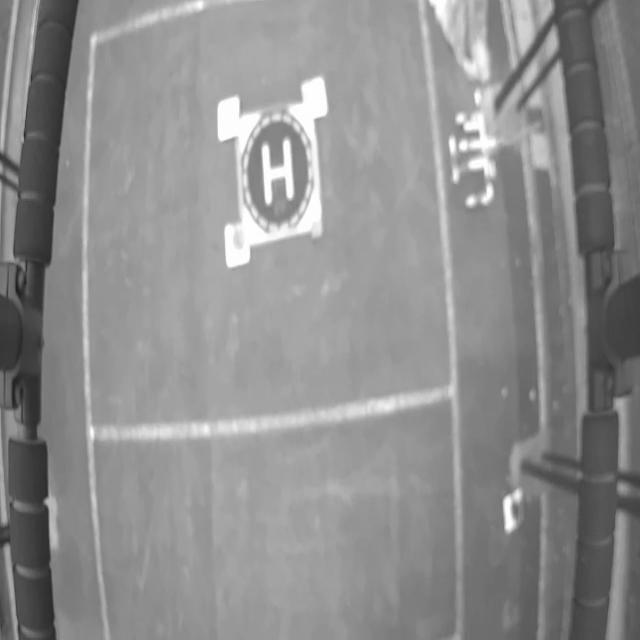Helipad: (262, 138, 295, 208)
